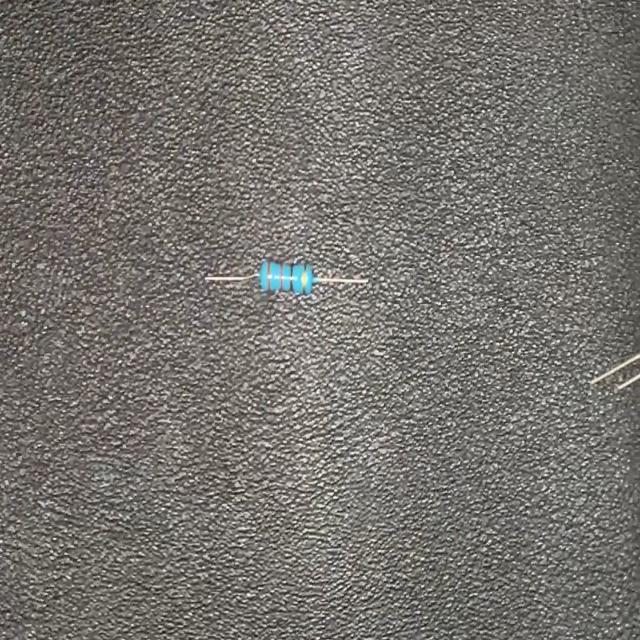resistor: (204, 254, 370, 301)
